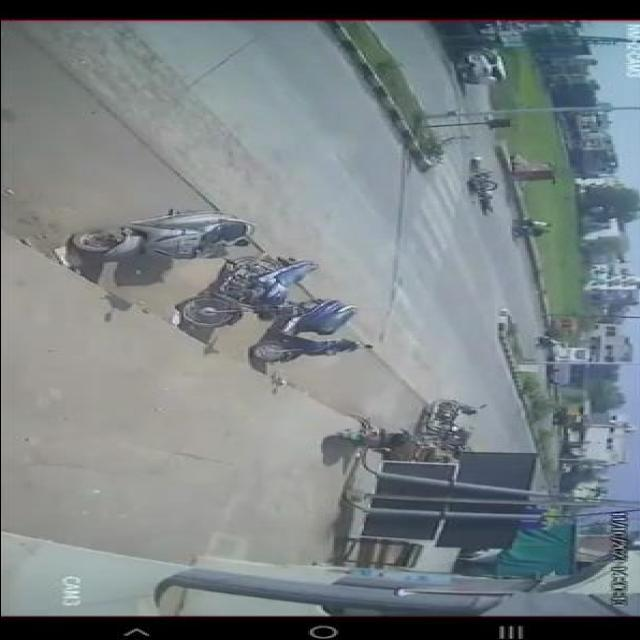accident: (458, 156, 505, 216)
